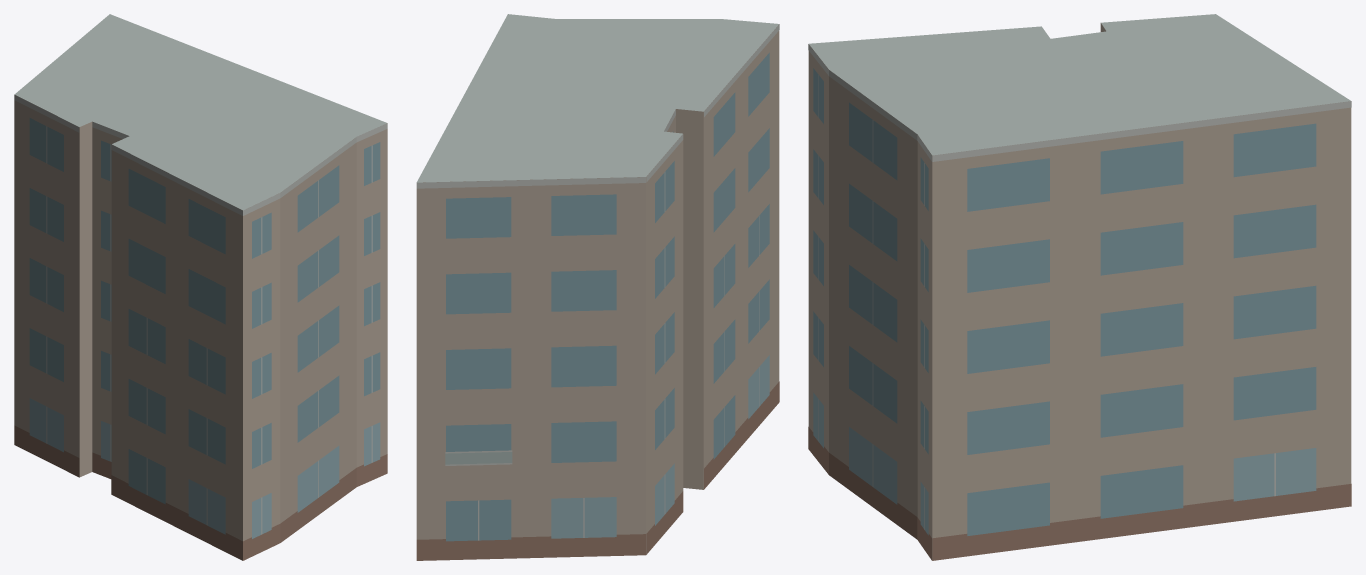
Rendered from survey-upis-32958755.glb.
3 views of the same model, side by side, from view 1: azimuth 30°, elevation 25°; view 2: azimuth 150°, elevation 25°; view 3: azimuth 270°, elevation 25° (orthographic). The views are drawn at different scales.
Parts seen in each view (by area): view 1: survey-upis-32958755.tmp; view 2: survey-upis-32958755.tmp; view 3: survey-upis-32958755.tmp.
Part boxes in pixels (<box>): survey-upis-32958755.tmp: <box>14,14,387,560</box>; survey-upis-32958755.tmp: <box>416,14,779,560</box>; survey-upis-32958755.tmp: <box>808,14,1351,560</box>.
Size of the model in its own units: 11.39 by 15.2 by 18.46.
